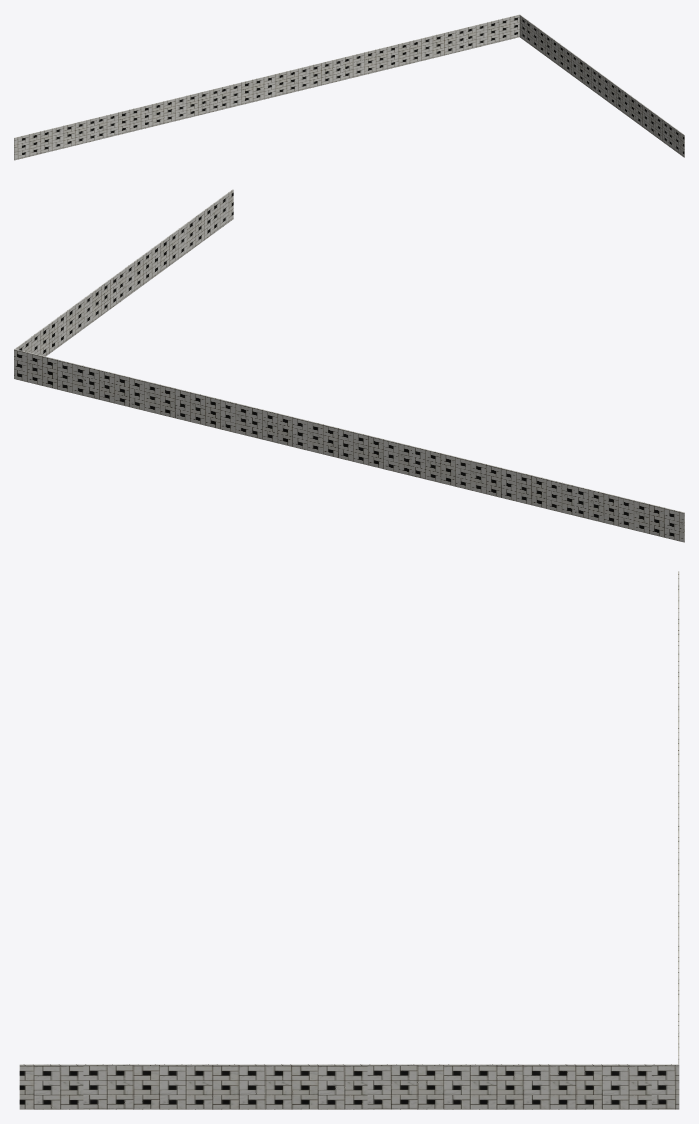
Rendered from BP_MarbleBiancoGioiaPinwheelMosaic.glb.
The picture shows the model from 3 angles, top to bottom: view 1: azimuth 30°, elevation 25°; view 2: azimuth 150°, elevation 25°; view 3: azimuth 270°, elevation 25°; orthographic projection. The views are drawn at different scales.
Visible parts, largest first — view 1: BKSPLASH_marble_bianco_giola_pinwheel_mosiac.001; view 2: BKSPLASH_marble_bianco_giola_pinwheel_mosiac.001; view 3: BKSPLASH_marble_bianco_giola_pinwheel_mosiac.001.
Boxes of the visible parts, x1=… form: BKSPLASH_marble_bianco_giola_pinwheel_mosiac.001: x1=14, y1=14, x2=684, y2=160; BKSPLASH_marble_bianco_giola_pinwheel_mosiac.001: x1=14, y1=189, x2=684, y2=542; BKSPLASH_marble_bianco_giola_pinwheel_mosiac.001: x1=19, y1=571, x2=679, y2=1109.
Size of the model in its own units: 7.1 by 0.3 by 4.01.
Materials: 1 (1 with a texture image).
